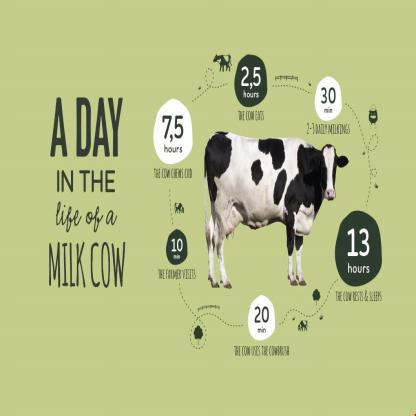cow: (204, 129, 349, 288)
